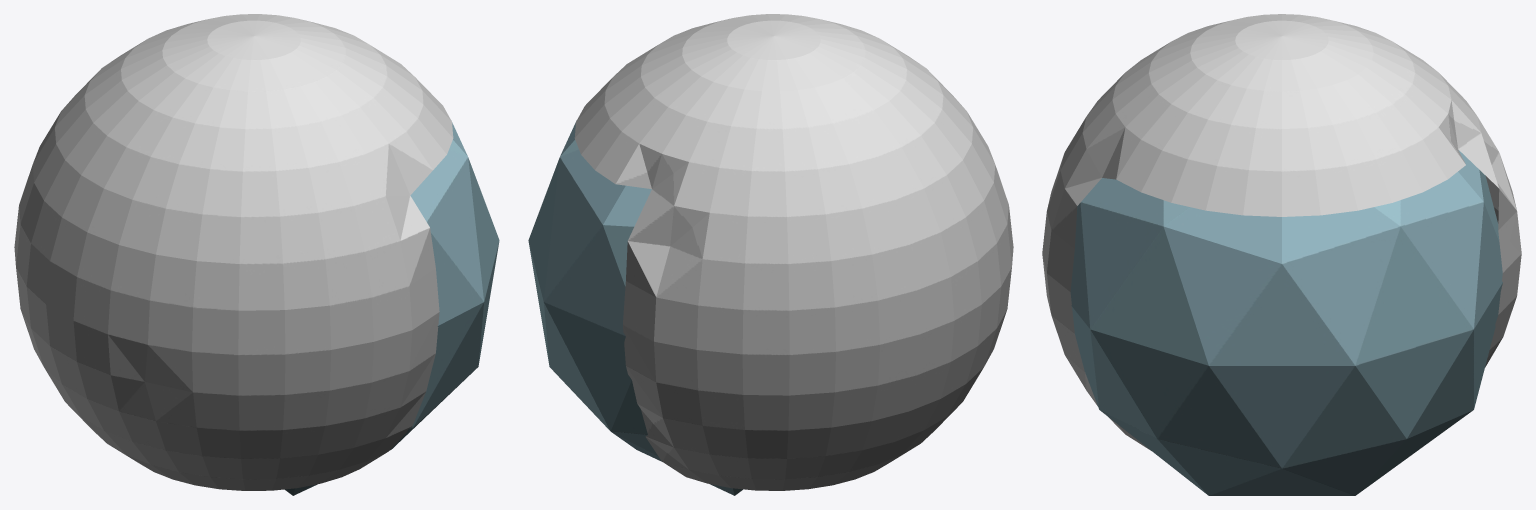
File: helmet.dae
The picture shows the model from 3 angles, left to right: view 1: azimuth 30°, elevation 25°; view 2: azimuth 150°, elevation 25°; view 3: azimuth 270°, elevation 25°; orthographic projection.
Parts seen in each view (by area): view 1: Icosphere; view 2: Icosphere; view 3: Icosphere.
Part boxes in pixels (bbox=[...]): Icosphere: bbox=[14, 14, 499, 495]; Icosphere: bbox=[528, 14, 1013, 495]; Icosphere: bbox=[1042, 14, 1521, 495].
Size of the model in its own units: 0.1916 by 0.1912 by 0.1948.
1 material, 1 textured.
